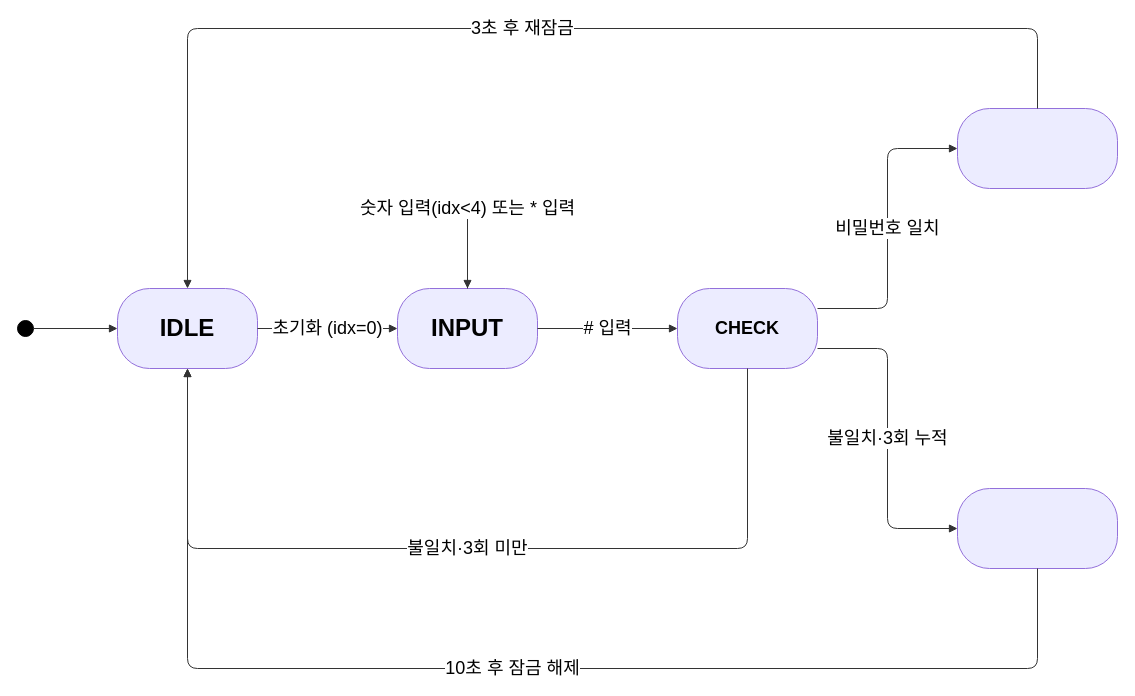
This 1135x696 diagram has some shape labels left out. Here are the shapes that lost their labels. From the top down, the box of each, then its label:
(956, 108, 1118, 188): UNLOCK
(956, 488, 1118, 568): LOCKOUT
